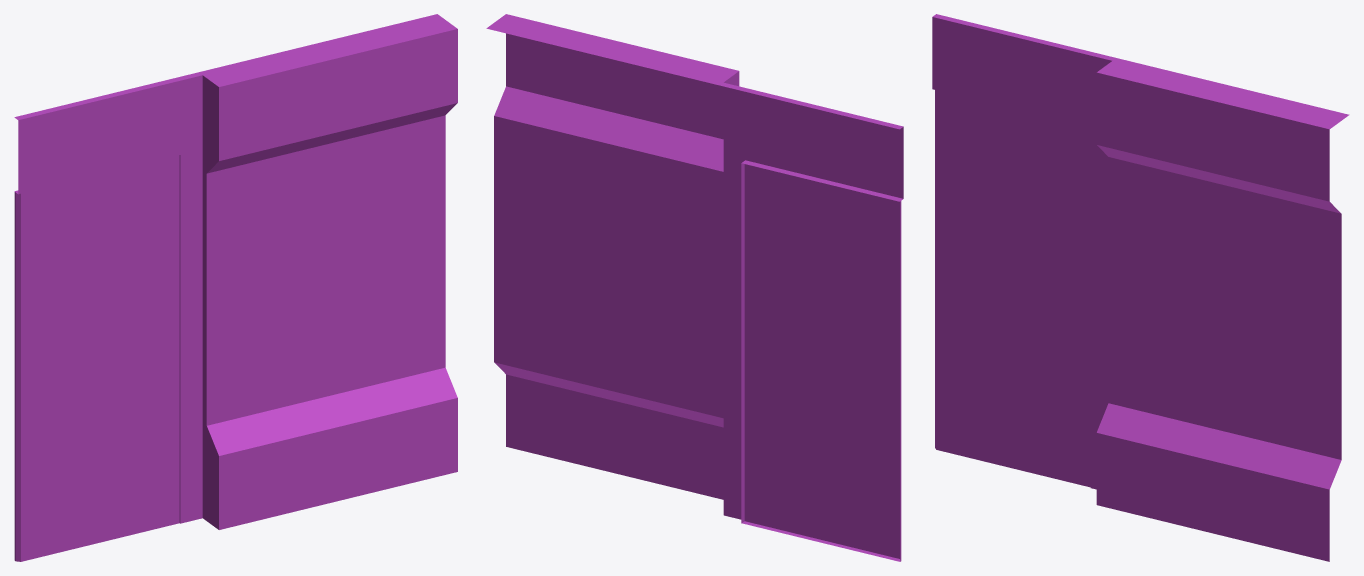
The model's file is SlimDoor-half.FBX.
3 renders of one model, left to right at view 1: azimuth 30°, elevation 25°; view 2: azimuth 150°, elevation 25°; view 3: azimuth 330°, elevation 25°, orthographic. The views are drawn at different scales.
Visible parts, largest first — view 1: Object, Object001; view 2: Object, Object001; view 3: Object, Object001.
Part boxes in pixels (x1,y1,x2,y2): Object: [14, 14, 457, 529]; Object001: [14, 155, 179, 561]; Object: [486, 14, 903, 523]; Object001: [741, 163, 901, 561]; Object: [932, 14, 1349, 561]; Object001: [935, 90, 1090, 487].
Size of the model in its own units: 300 by 25 by 300.
